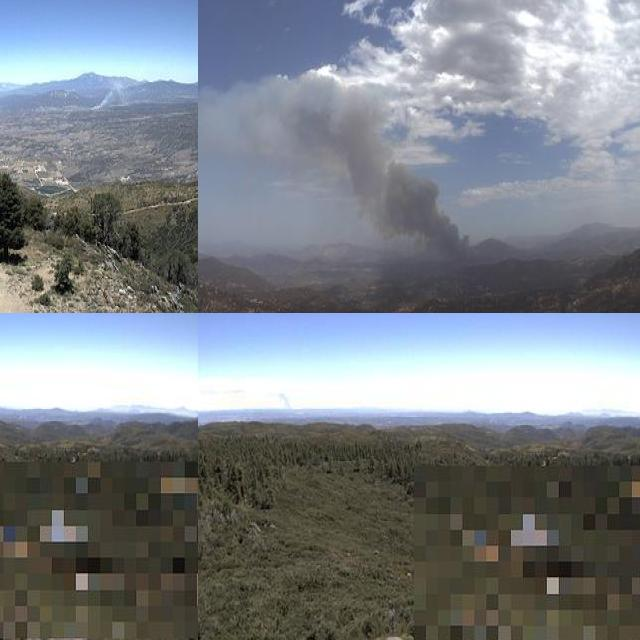smoke: (198, 68, 492, 278), (81, 74, 130, 111), (271, 386, 299, 421)
